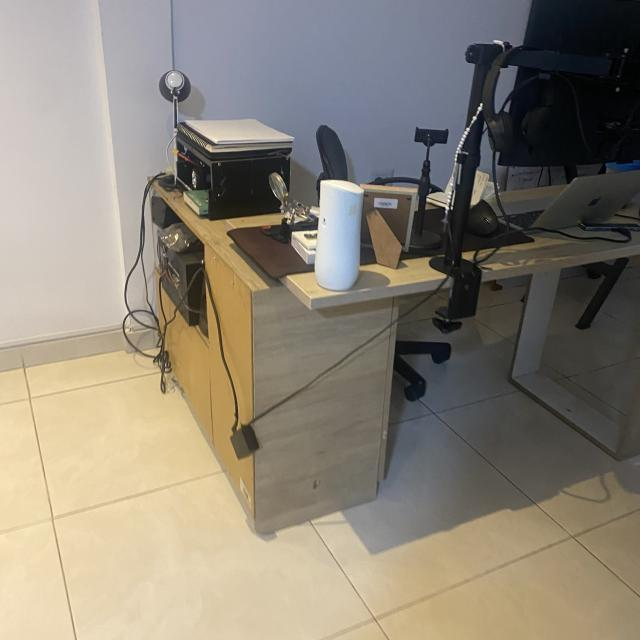obstacle: (147, 32, 634, 532)
